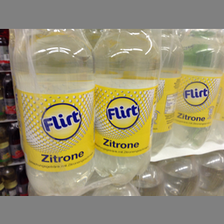soda: (10, 29, 95, 195), (95, 30, 161, 183), (170, 30, 223, 150)
